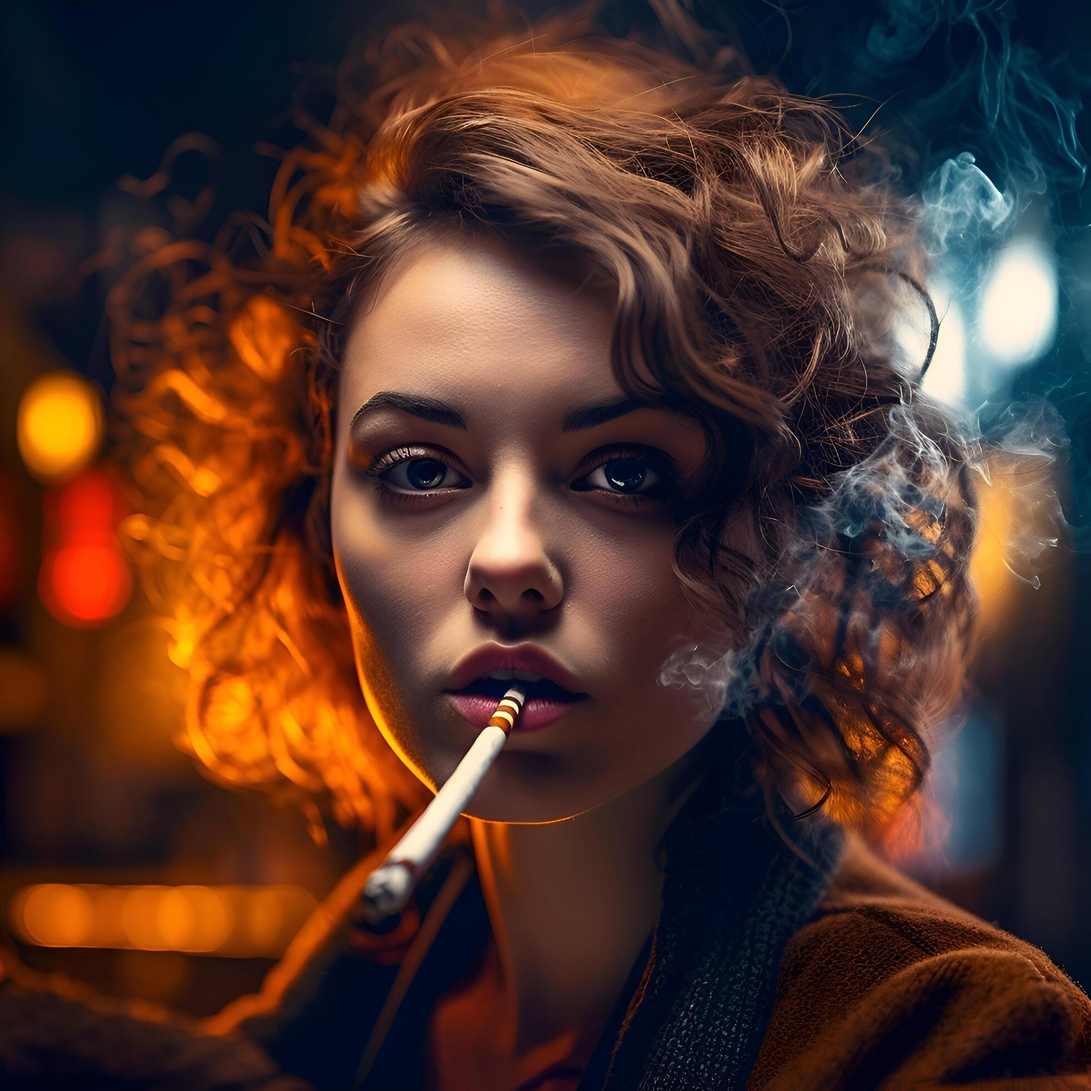cigarette: (361, 683, 524, 923)
